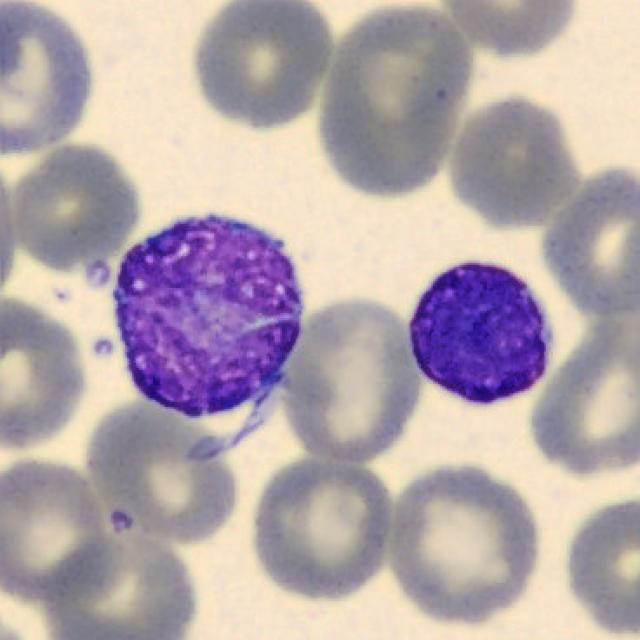Linfocito: (111, 215, 304, 423), (409, 261, 551, 405)
